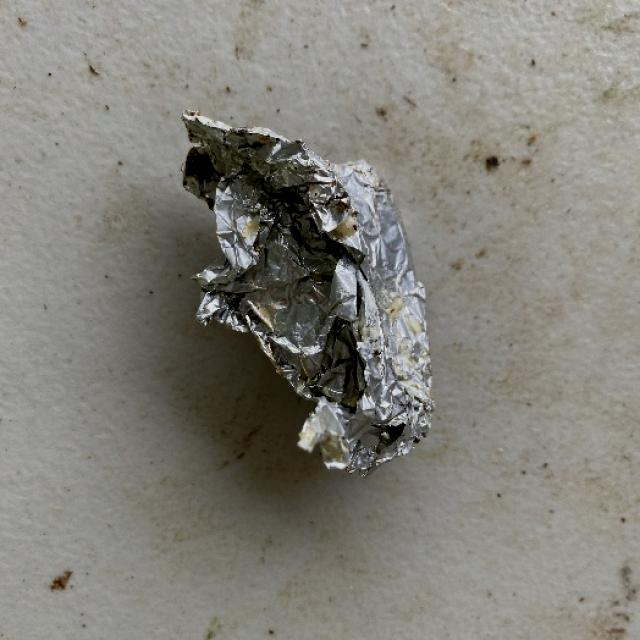inorganic: (172, 102, 440, 478)
